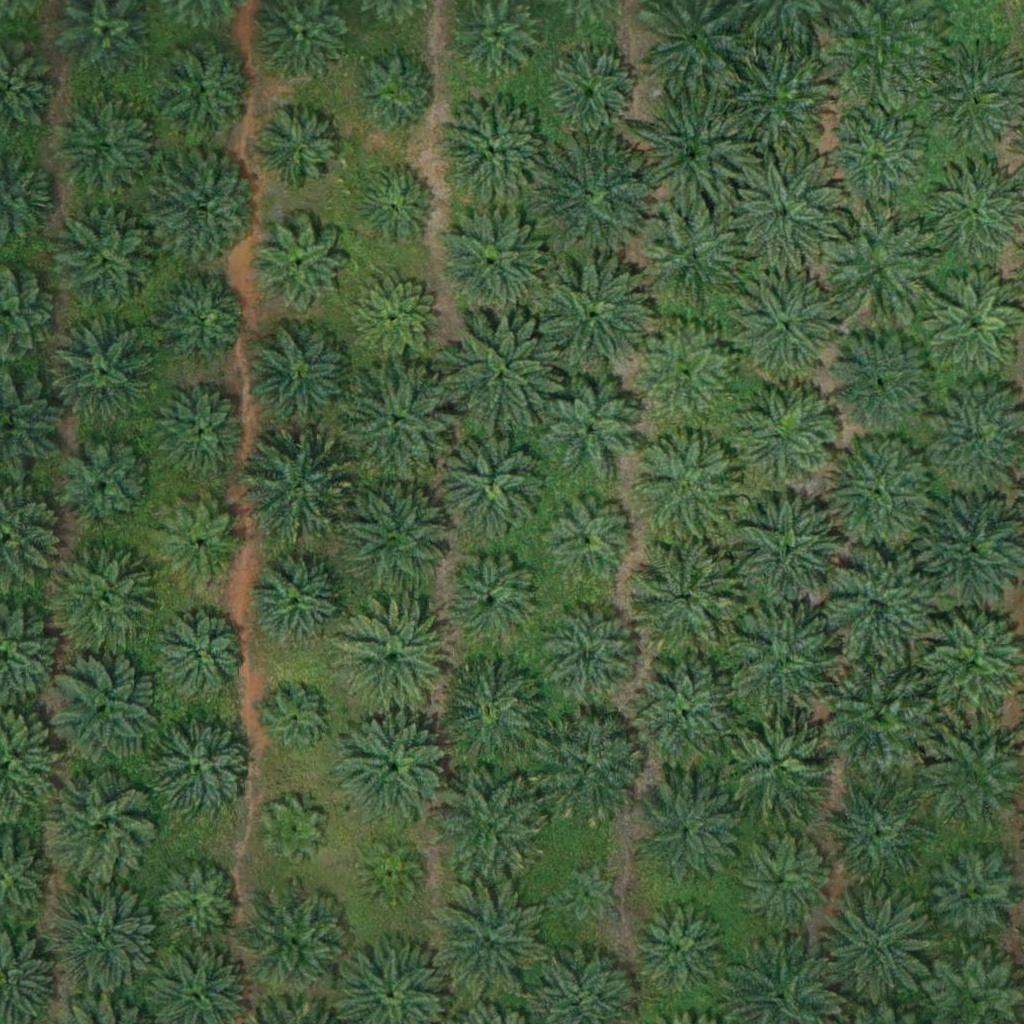Kelapa_Sawit: (49, 204, 162, 318), (149, 150, 262, 264), (246, 320, 359, 434), (238, 433, 351, 547), (632, 779, 745, 893), (244, 542, 357, 655), (336, 604, 449, 717), (435, 93, 548, 206), (436, 209, 549, 322), (539, 142, 652, 255), (537, 260, 650, 373), (633, 432, 746, 545), (625, 541, 738, 654), (718, 42, 831, 155), (821, 104, 934, 217), (825, 211, 938, 324), (822, 325, 935, 438), (730, 609, 843, 722), (721, 708, 834, 821), (630, 660, 743, 773), (429, 881, 542, 994), (338, 715, 451, 828), (43, 770, 156, 883), (47, 883, 160, 996), (344, 365, 456, 479), (341, 477, 453, 591), (438, 545, 550, 659), (532, 714, 644, 828), (435, 657, 547, 771), (48, 311, 160, 424), (45, 542, 157, 655), (445, 315, 557, 428), (439, 428, 551, 541), (636, 100, 748, 213), (638, 202, 750, 315), (727, 161, 839, 274), (728, 272, 840, 385), (733, 496, 845, 609), (821, 439, 933, 552), (822, 551, 934, 664), (824, 661, 936, 774), (820, 773, 932, 886), (822, 885, 934, 998), (438, 770, 550, 883), (239, 887, 351, 1000), (147, 714, 259, 827), (47, 655, 159, 768), (54, 431, 154, 532), (538, 377, 638, 478), (634, 323, 734, 424), (734, 383, 834, 484), (57, 95, 157, 195), (151, 269, 251, 369), (151, 383, 251, 483), (248, 215, 348, 315), (541, 606, 641, 706), (731, 829, 831, 929), (629, 898, 729, 998), (549, 50, 637, 138), (156, 615, 244, 703), (255, 106, 343, 194), (353, 160, 441, 248), (350, 274, 438, 362), (153, 855, 241, 943), (161, 45, 248, 133), (156, 499, 243, 587), (351, 48, 438, 136), (547, 496, 634, 584), (359, 842, 422, 905), (267, 688, 330, 751), (262, 799, 325, 862), (556, 862, 618, 925)
